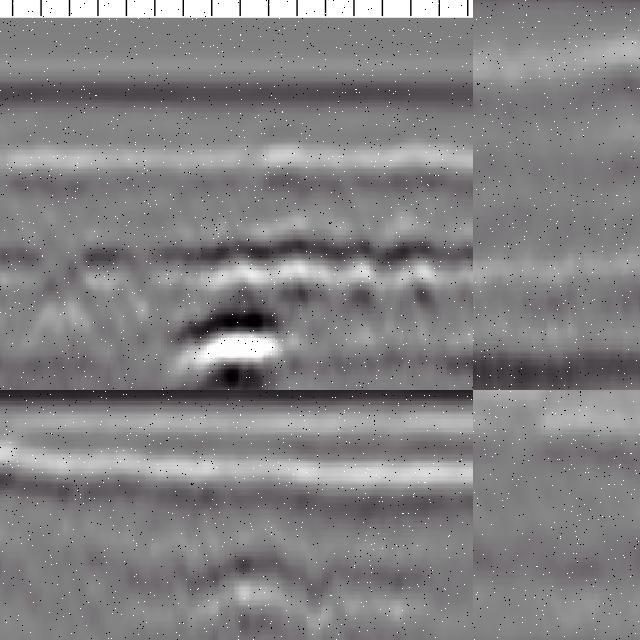crack: (474, 401, 490, 640)
loose: (158, 223, 454, 391), (171, 533, 425, 640)
